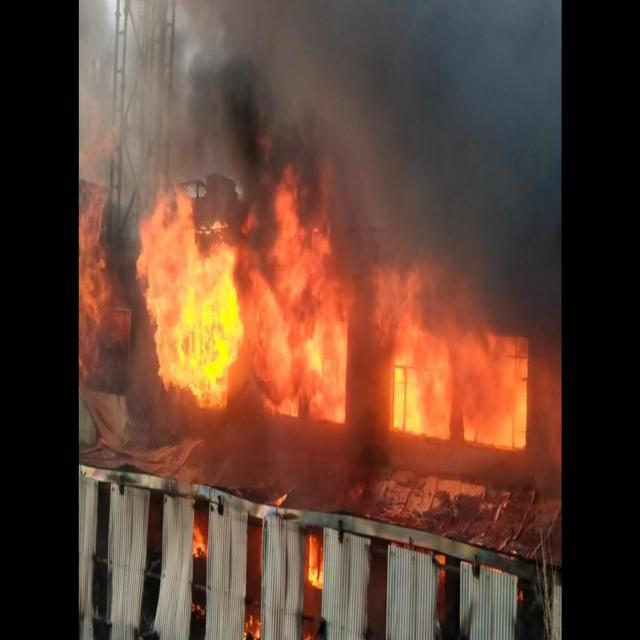Fire: (385, 279, 527, 451), (151, 209, 243, 423), (253, 221, 348, 426), (77, 125, 116, 374)
